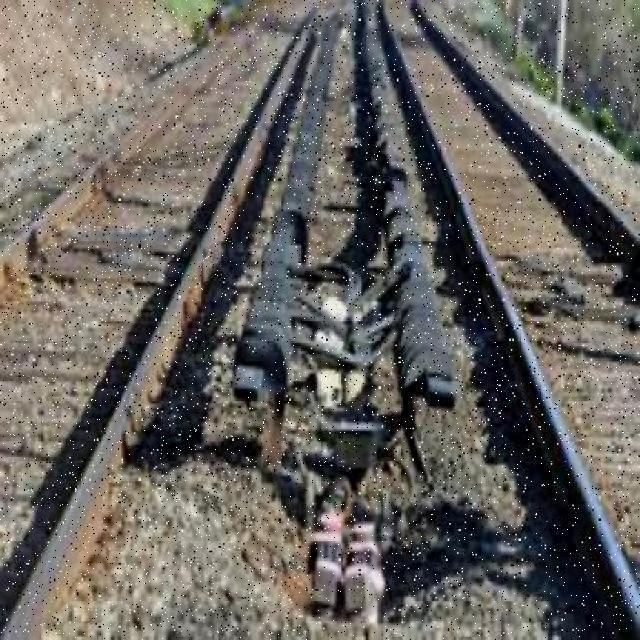rail: (1, 2, 640, 635)
